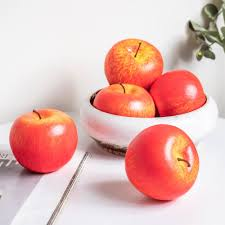apple: (9, 106, 80, 174)
